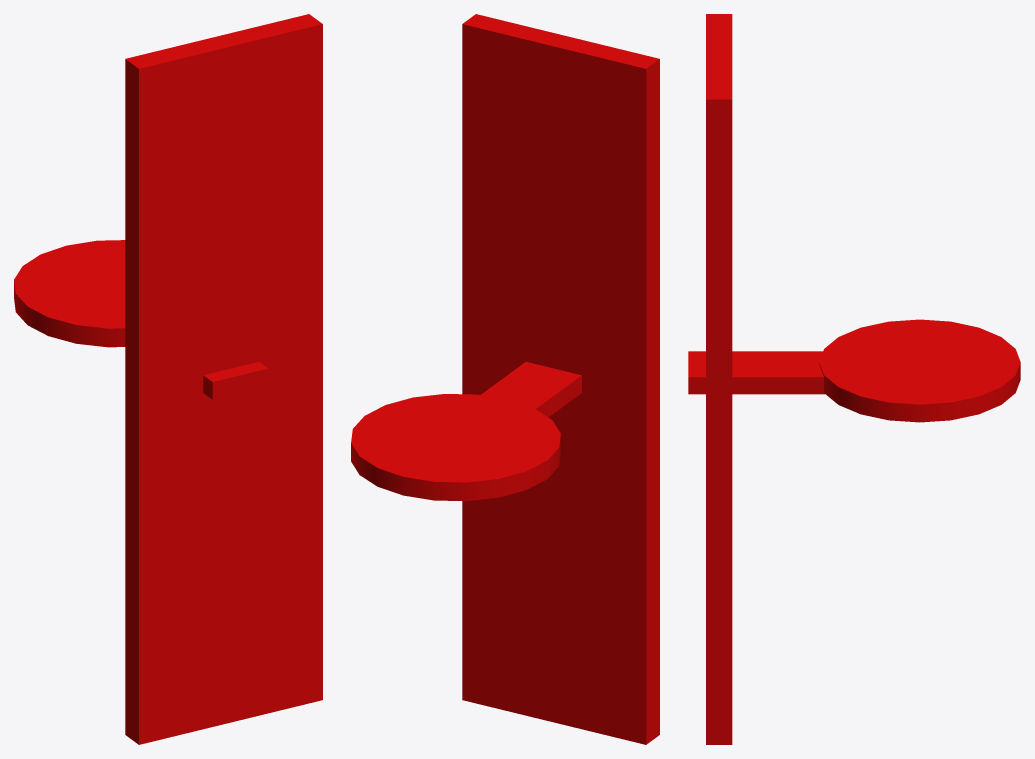
The model's file is LightCandleHolderB05Collider.fbx.
The picture shows the model from 3 angles, left to right: view 1: azimuth 30°, elevation 25°; view 2: azimuth 150°, elevation 25°; view 3: azimuth 270°, elevation 25°; orthographic projection. The views are drawn at different scales.
Parts seen in each view (by area): view 1: LightCandleHolderB05Collision; view 2: LightCandleHolderB05Collision; view 3: LightCandleHolderB05Collision.
Boxes of the visible parts, x1,y1,x2,y2 form: LightCandleHolderB05Collision: [14, 14, 322, 744]; LightCandleHolderB05Collision: [351, 14, 659, 744]; LightCandleHolderB05Collision: [688, 14, 1020, 744].
Size of the model in its own units: 5.44 by 19.1 by 8.91.
